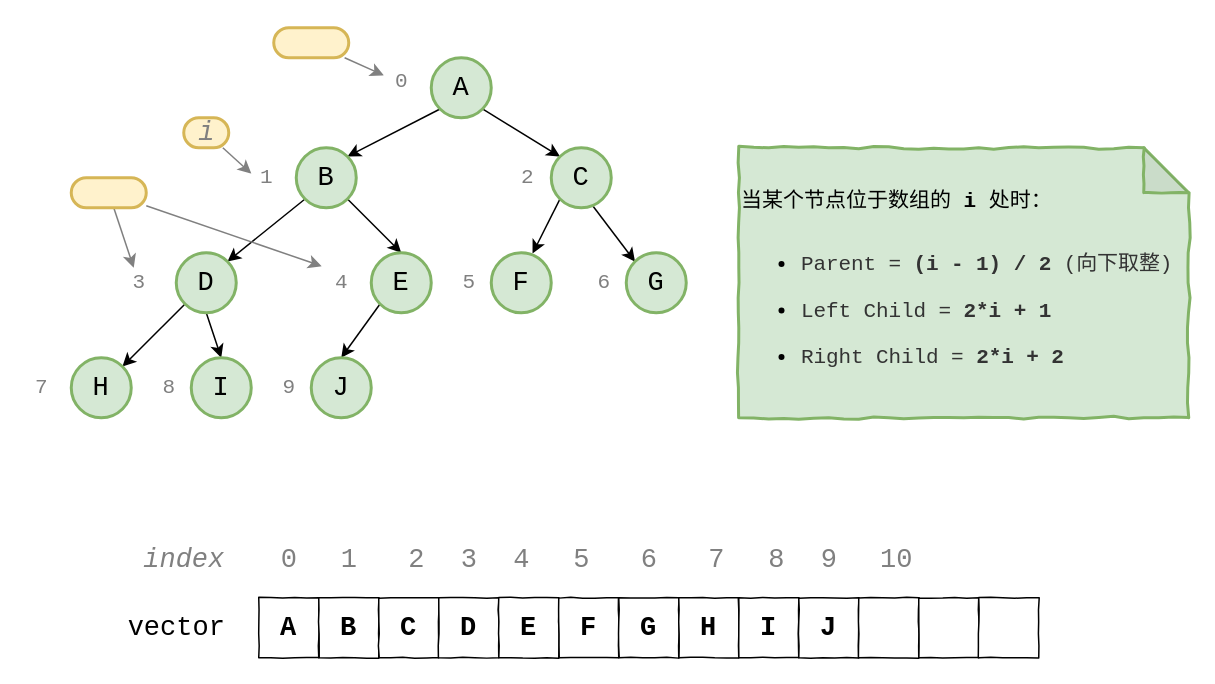
Image size: 1215x684. Some labels were removed from this diagram. Here are the shapes that lost their labels. From the top down, the centre of each, then its label:
At (x=311, y=42): "i/2".
At (x=108, y=192): "i*2".
